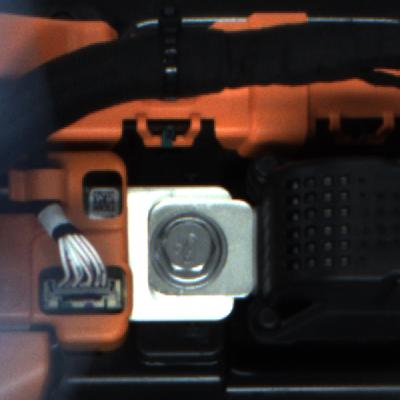nut_b: (147, 211, 228, 291)
